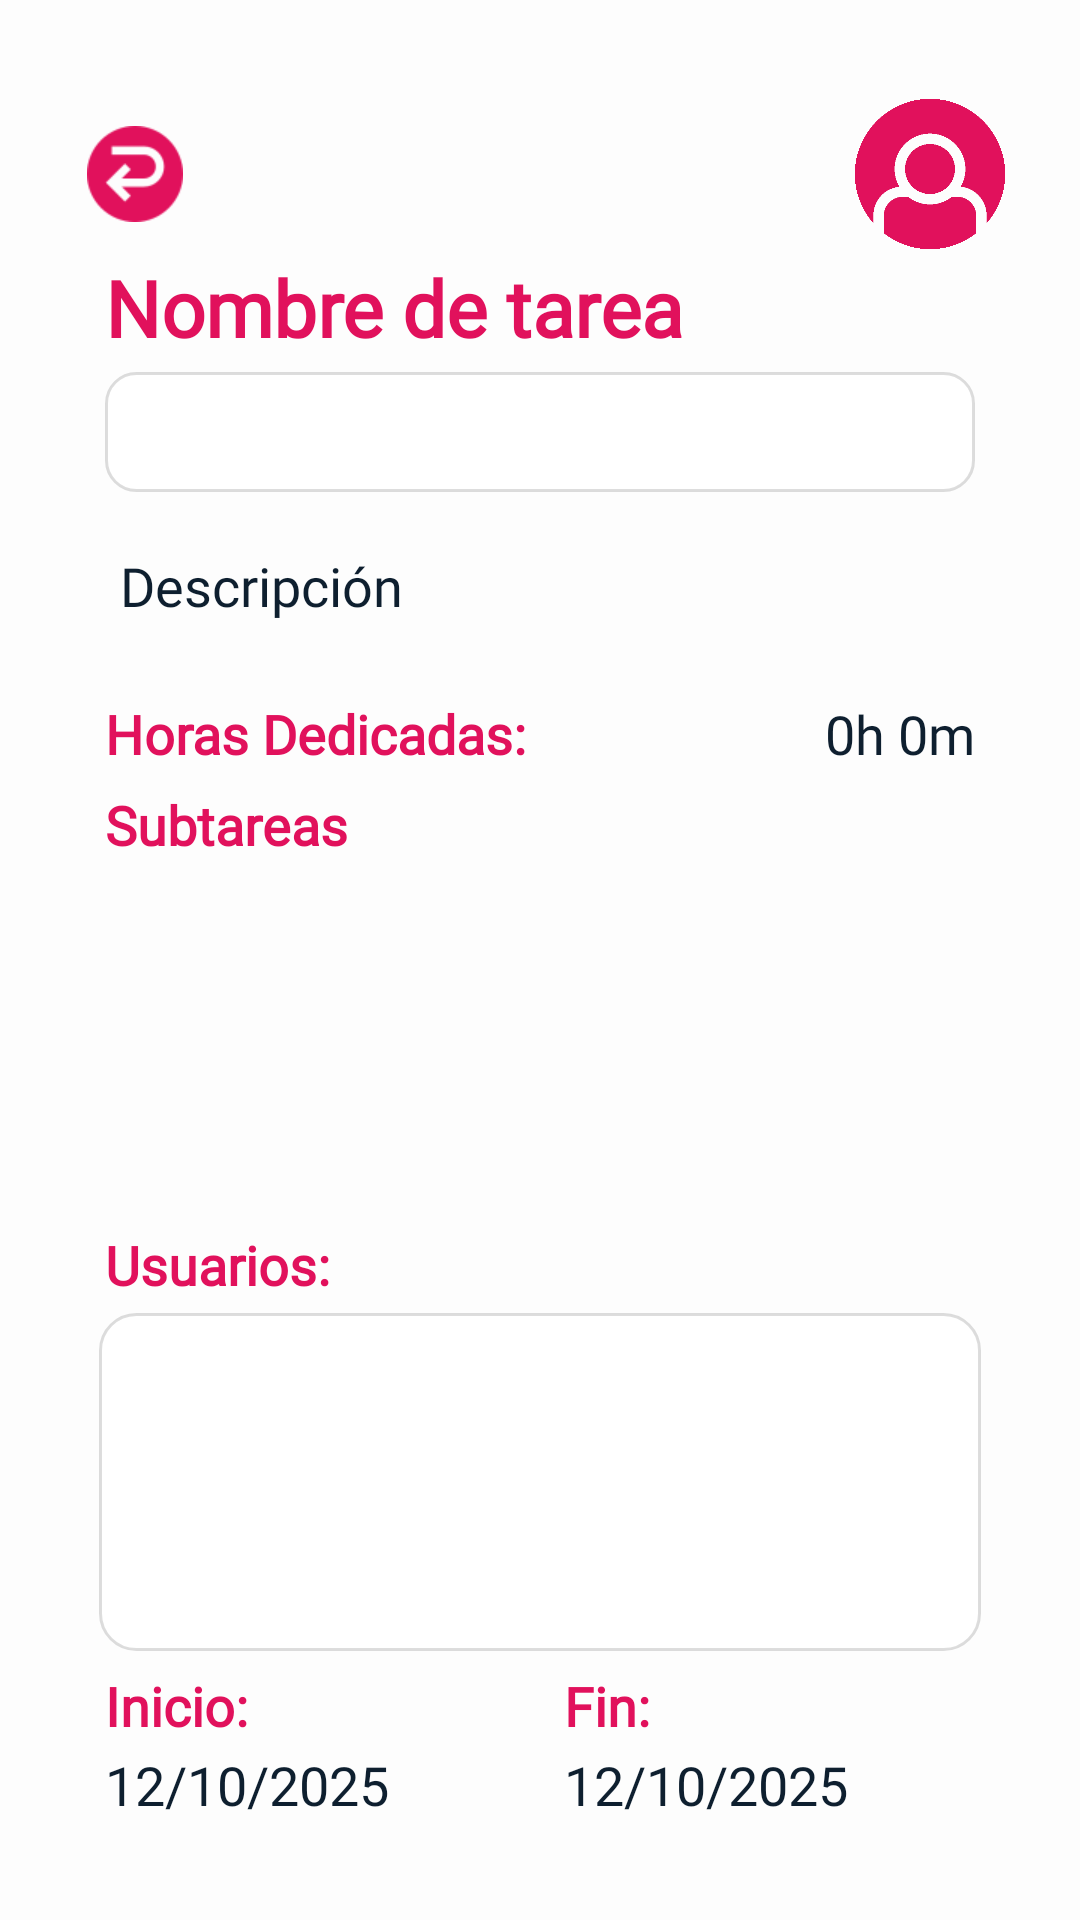

Screen size 1080 × 1920. Icon name, then its center in pixels as (x=x, y=y):
Volver: (x=135, y=174)
